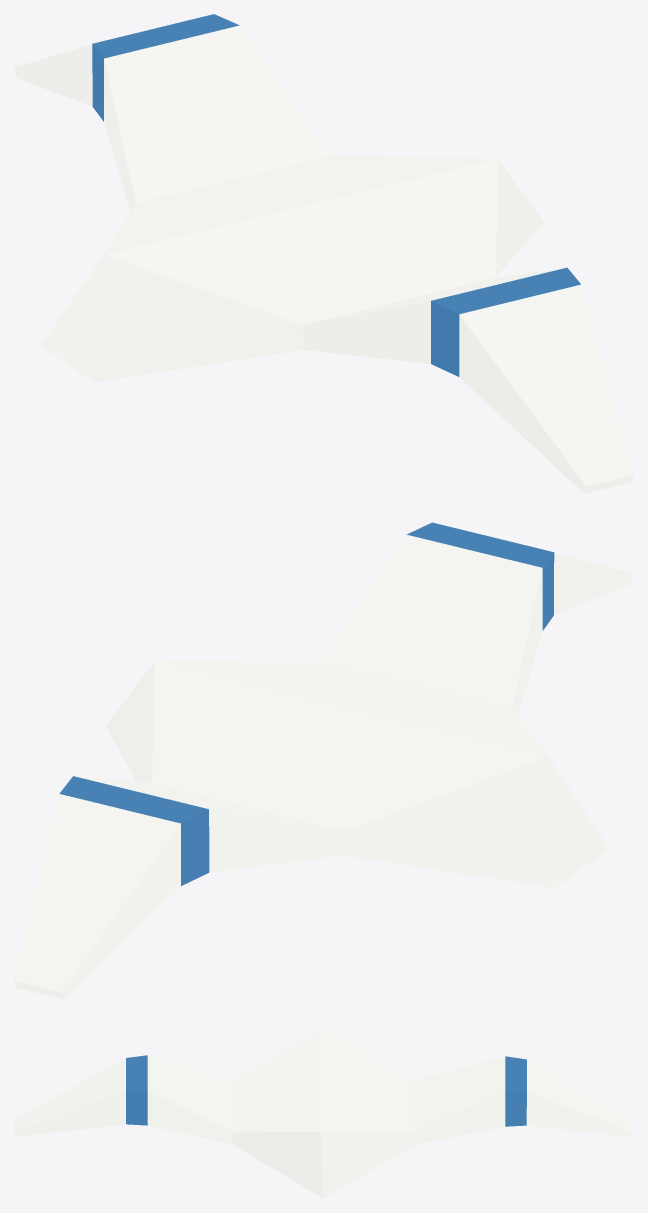
The model's file is seagull.glb.
3 renders of one model, top to bottom at view 1: azimuth 30°, elevation 25°; view 2: azimuth 150°, elevation 25°; view 3: azimuth 270°, elevation 25°, orthographic. The views are drawn at different scales.
Parts seen in each view (by area): view 1: Plane; view 2: Plane; view 3: Plane.
Boxes of the visible parts, x1,y1,x2,y2 form: Plane: [14, 14, 633, 493]; Plane: [14, 522, 633, 999]; Plane: [14, 1028, 633, 1198].
Size of the model in its own units: 3.26 by 0.9776 by 6.41.
